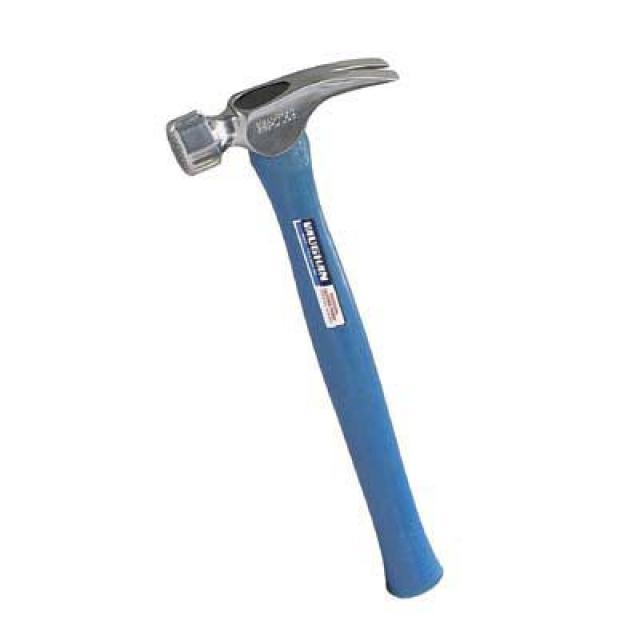hammer: (157, 49, 450, 600)
